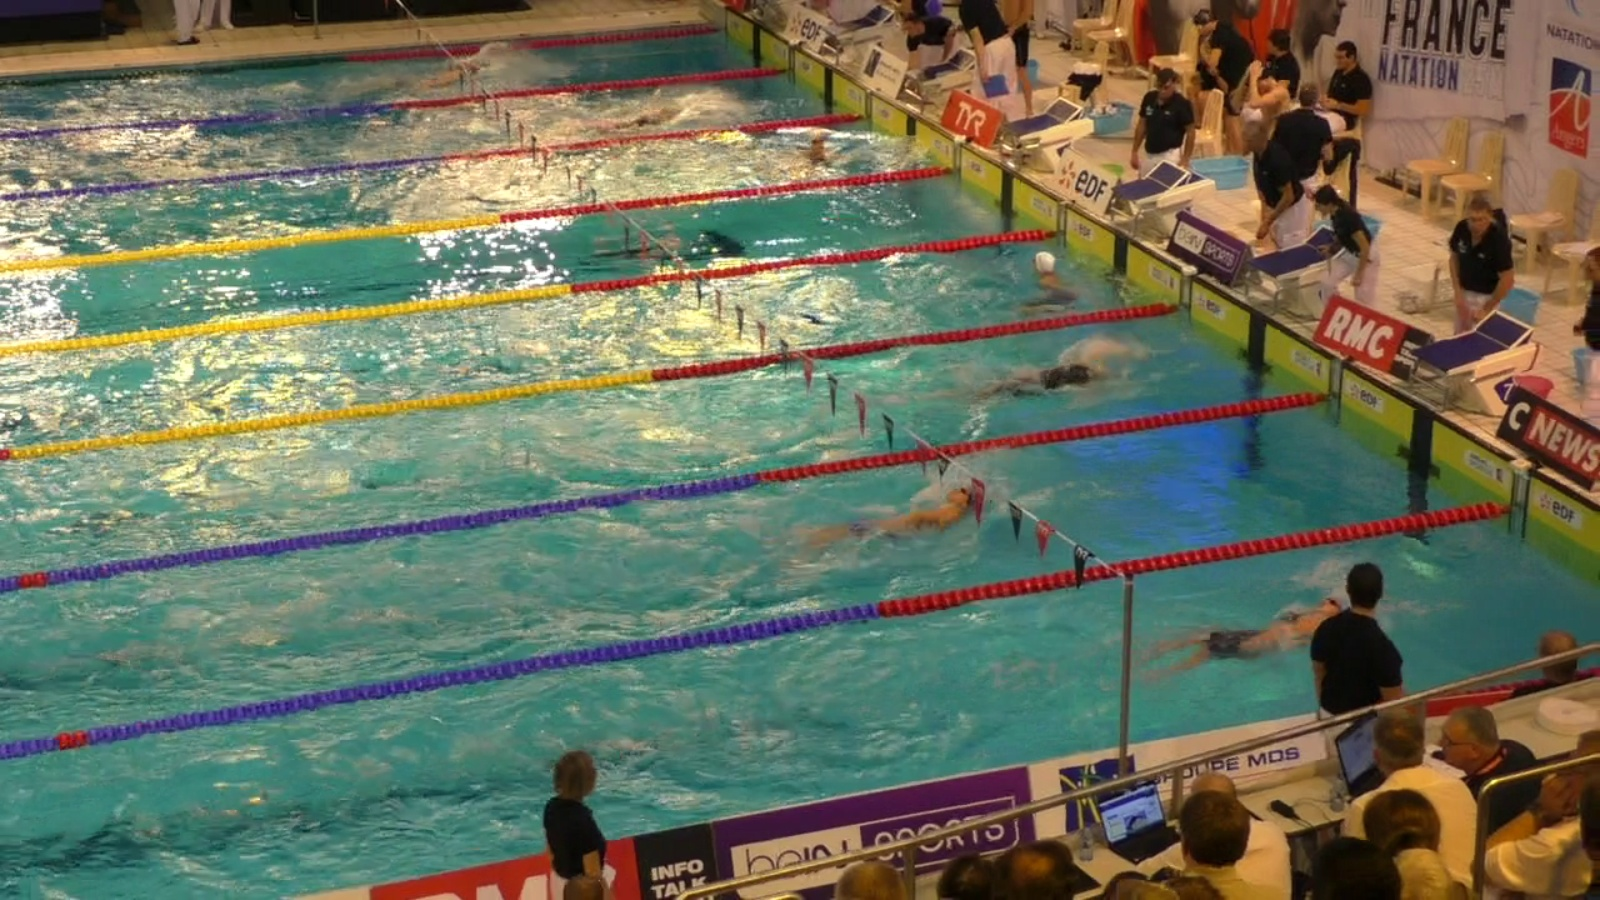swimmerwdd: (1133, 584, 1357, 681), (795, 480, 981, 548), (963, 347, 1134, 407), (1003, 243, 1082, 327), (549, 95, 711, 133), (330, 56, 481, 97), (793, 127, 853, 180)
